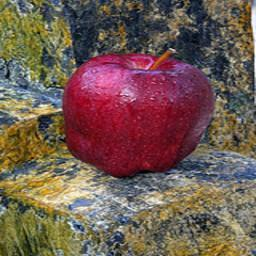apple: (60, 55, 216, 181)
